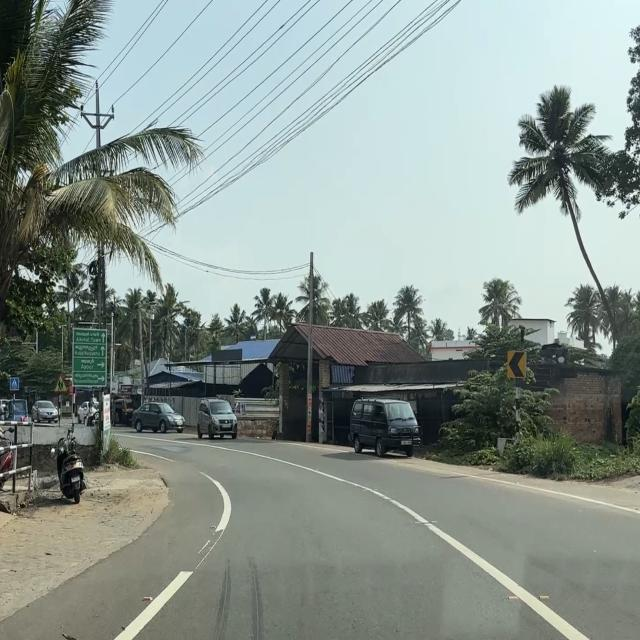GENERAL: (72, 326, 106, 386)
SCHOOL_AHEAD: (53, 373, 68, 393)
TURN_LEFT: (506, 350, 527, 378)
